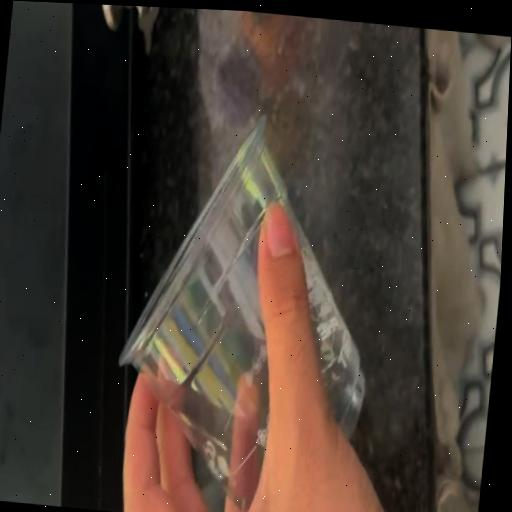ly_giay: (119, 119, 364, 512)
